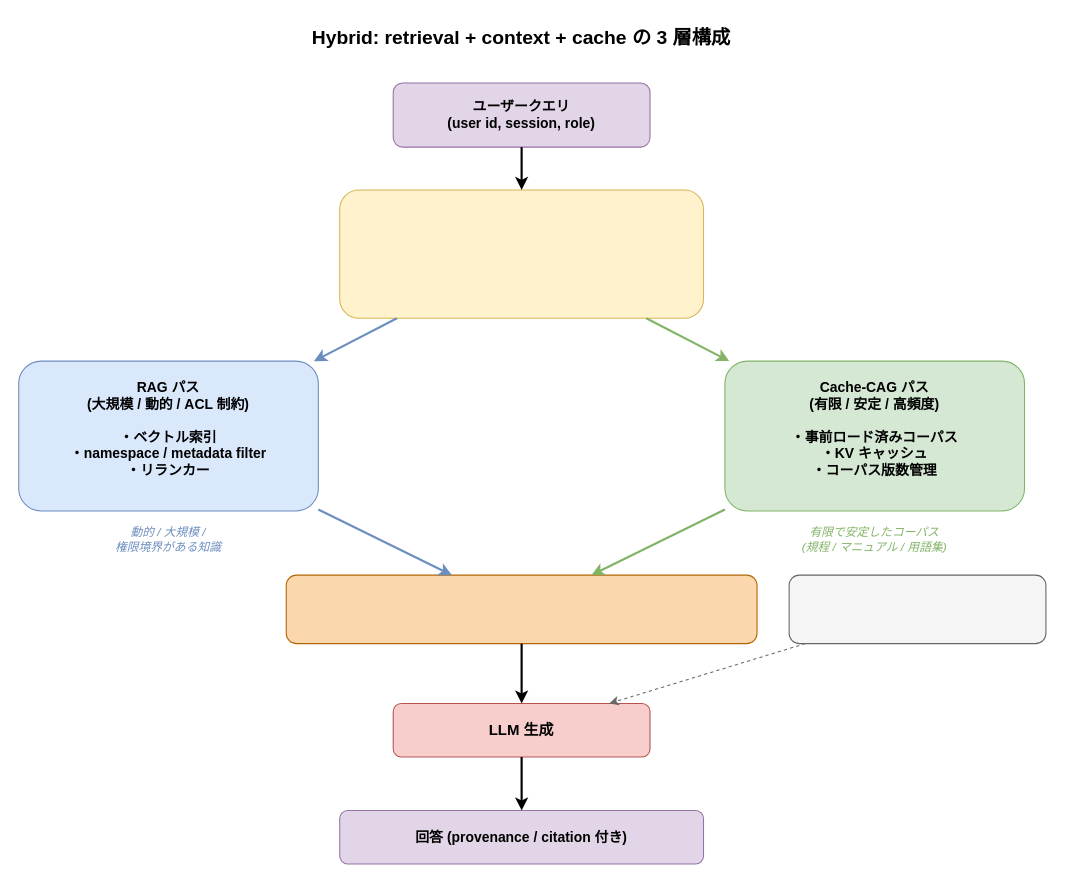
The diagram is 1065 pixels wide and 883 high, and some of its shapes have lost their labels. The shapes that lost their labels are listed below. From the top down, each one's box as (x1, y1, x2, y2) in pixels, then its label:
(339, 189, 704, 318): Context Manager ・ロール / 権限 / 部門 ・セッション履歴 ・業務状態 / ポリシー
(285, 574, 757, 644): プロンプト組み立て (source ids を保持してエビデンスを並置)
(788, 574, 1046, 644): 安定プレフィックスは Provider Prompt / KV Cache (OpenAI / Anthropic / Google)
